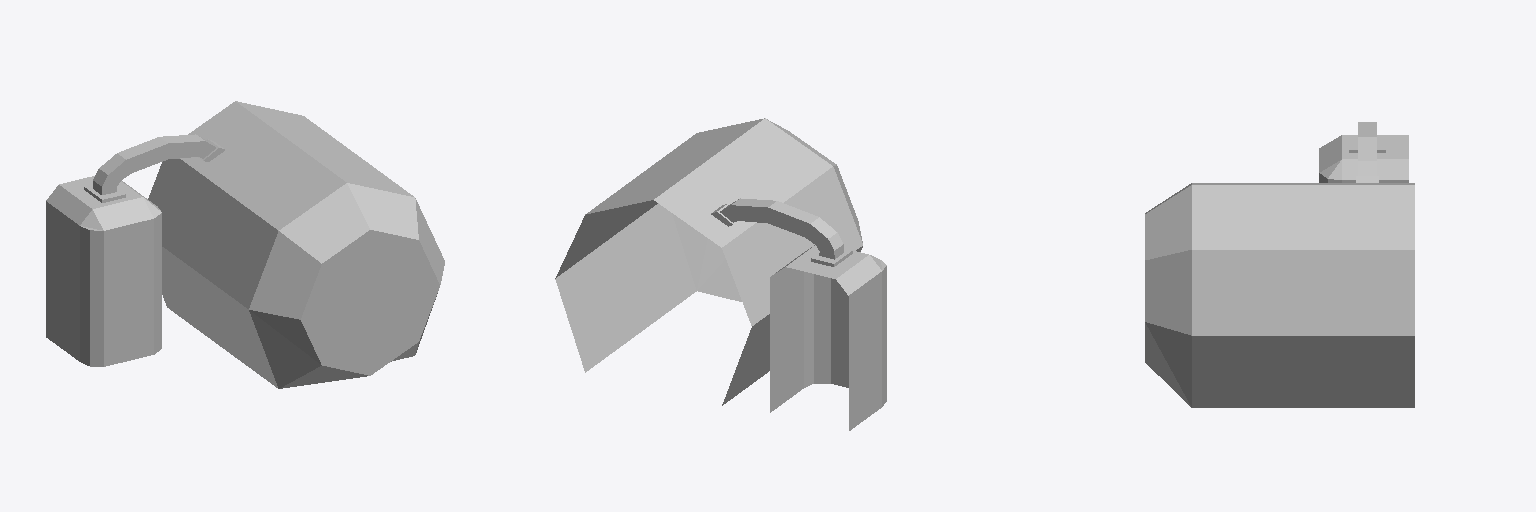
The model's file is Reactor.obj.
3 views of the same model, side by side, from view 1: azimuth 30°, elevation 25°; view 2: azimuth 150°, elevation 25°; view 3: azimuth 270°, elevation 25° (orthographic).
Visible parts, largest first — view 1: pCube7 Reactor1, Reactor1 pCube8; view 2: pCube7 Reactor1, Reactor1 pCube8; view 3: pCube7 Reactor1, Reactor1 pCube8.
Boxes of the visible parts, x1,y1,x2,y2 form: pCube7 Reactor1: [148, 101, 444, 388]; Reactor1 pCube8: [46, 134, 224, 366]; pCube7 Reactor1: [555, 118, 862, 405]; Reactor1 pCube8: [711, 198, 886, 430]; pCube7 Reactor1: [1145, 183, 1414, 407]; Reactor1 pCube8: [1319, 122, 1408, 182].
Bounding box in the file's own units: 372 × 234 × 300.